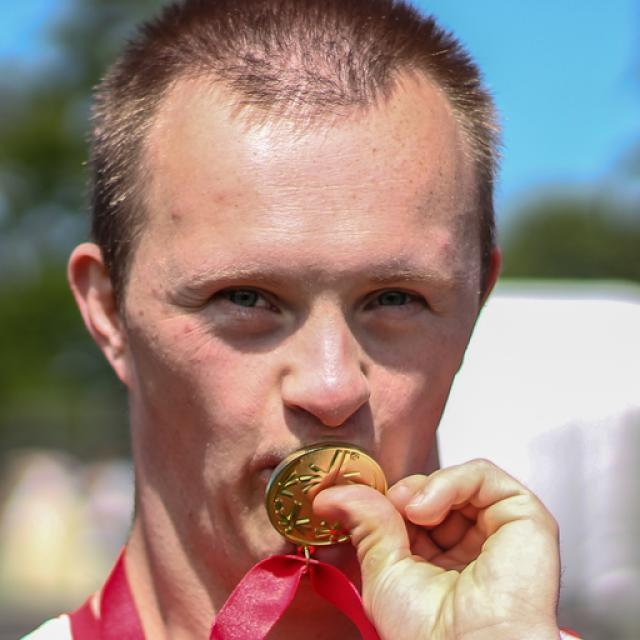disgust: (127, 58, 477, 576)
